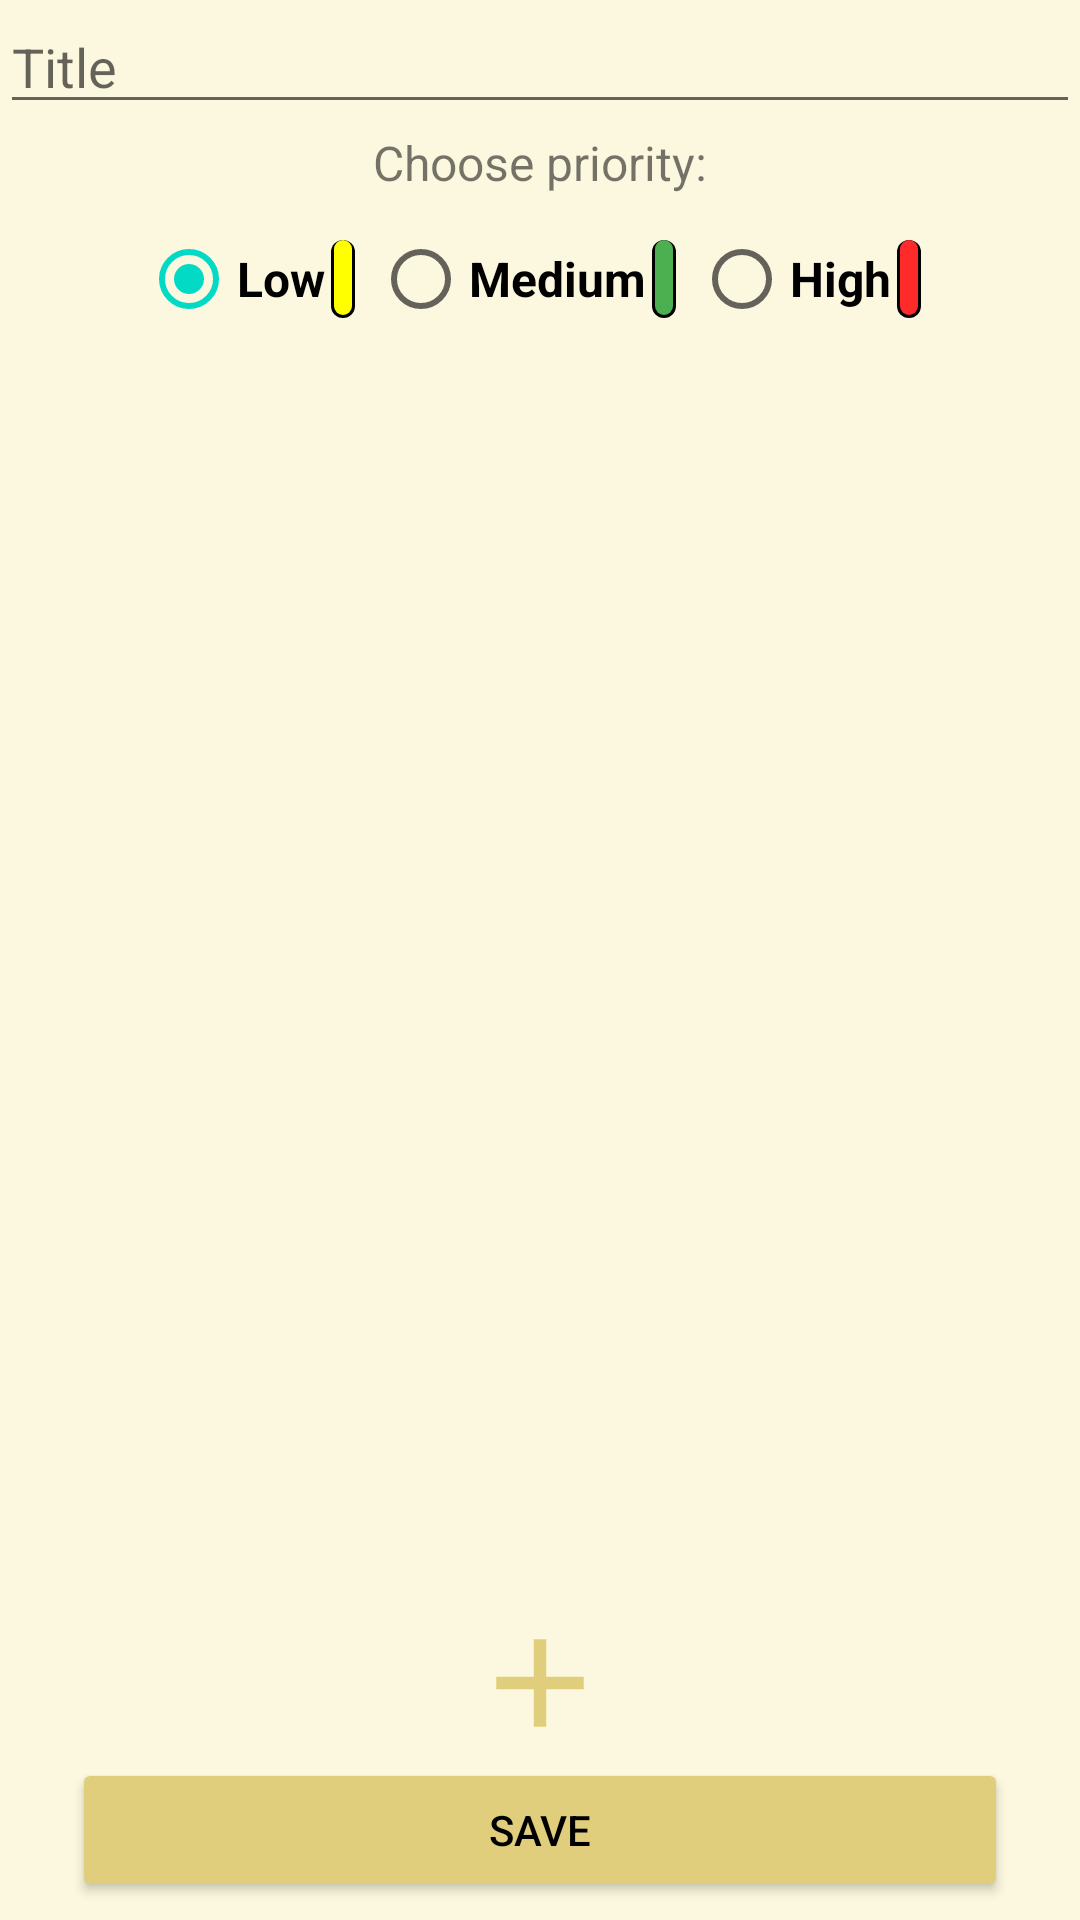

Where to tap for icons on this 1080px×1920px app screen, as (x=x, y=y):
add: (x=540, y=1683)
